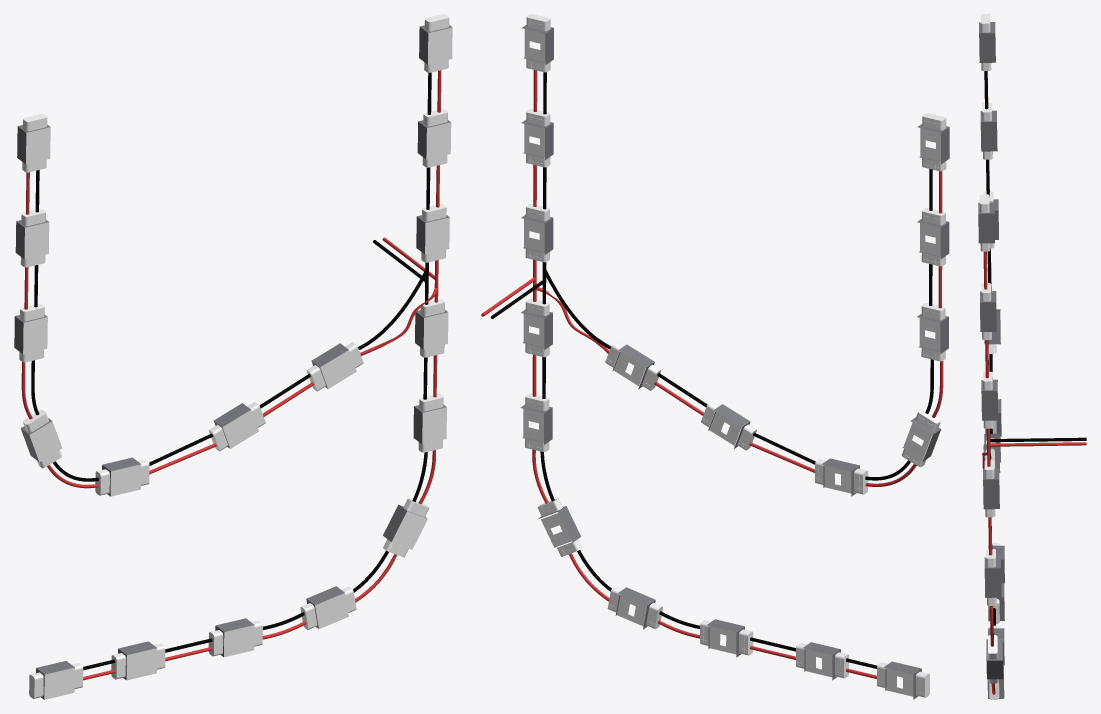
The model's file is fixed-led.glb.
The picture shows the model from 3 angles, left to right: view 1: azimuth 30°, elevation 25°; view 2: azimuth 150°, elevation 25°; view 3: azimuth 270°, elevation 25°; orthographic projection. The views are drawn at different scales.
Parts seen in each view (by area): view 1: fixed-led; view 2: fixed-led; view 3: fixed-led.
Part boxes in pixels (x1,y1,x2,y2): fixed-led: (14,14,452,699); fixed-led: (481,14,949,699); fixed-led: (978,14,1086,699).
Bounding box in the file's own units: 35.12 × 46.32 × 8.3.
